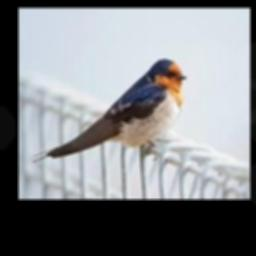Swallow: (31, 58, 186, 162)
